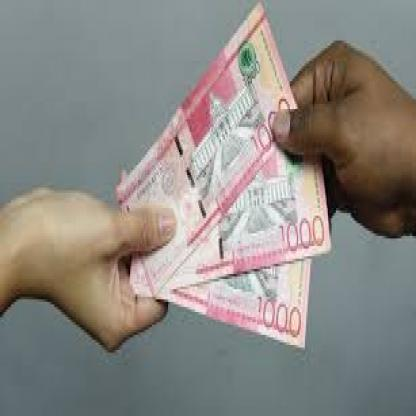billete: (114, 0, 329, 348)
